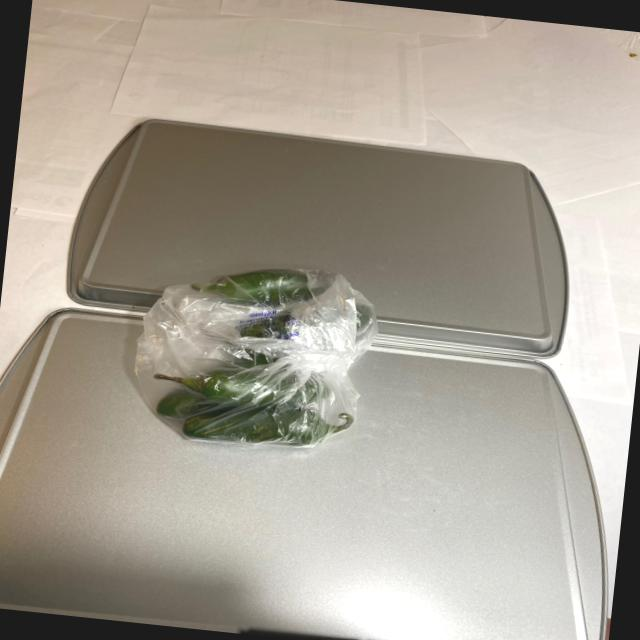chilli: (144, 250, 380, 467)
